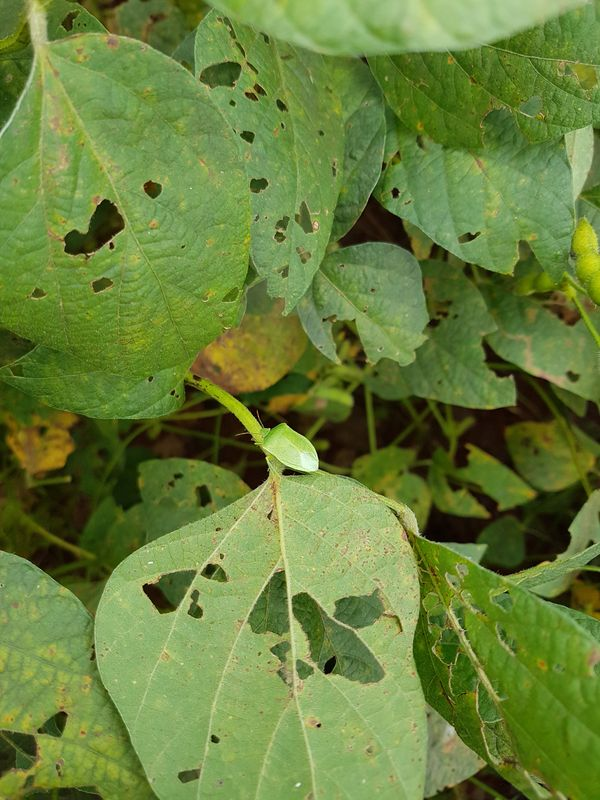Nezara_viridula_adulto: (229, 405, 327, 487)
